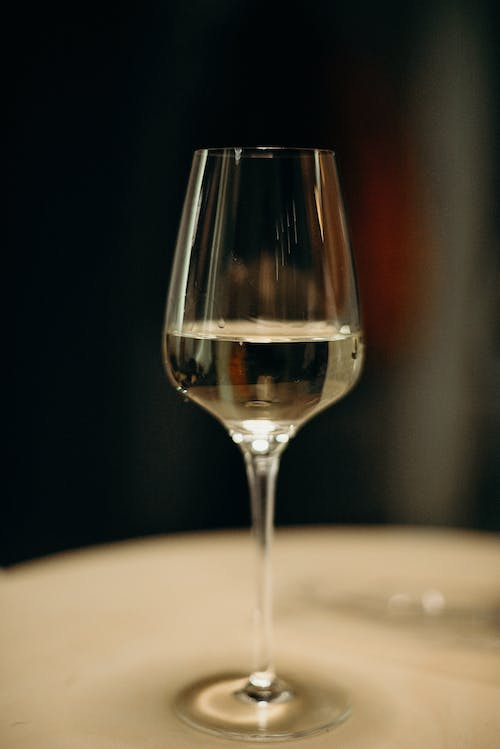alcohol: (160, 144, 367, 744)
